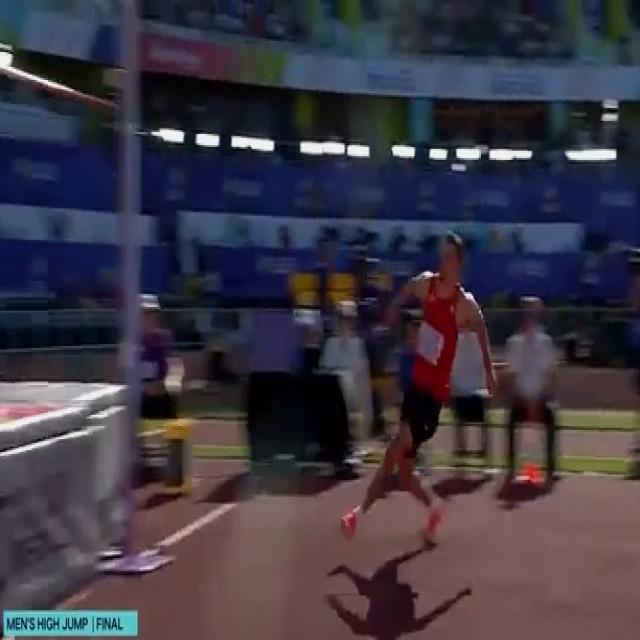run: (341, 228, 500, 542)
